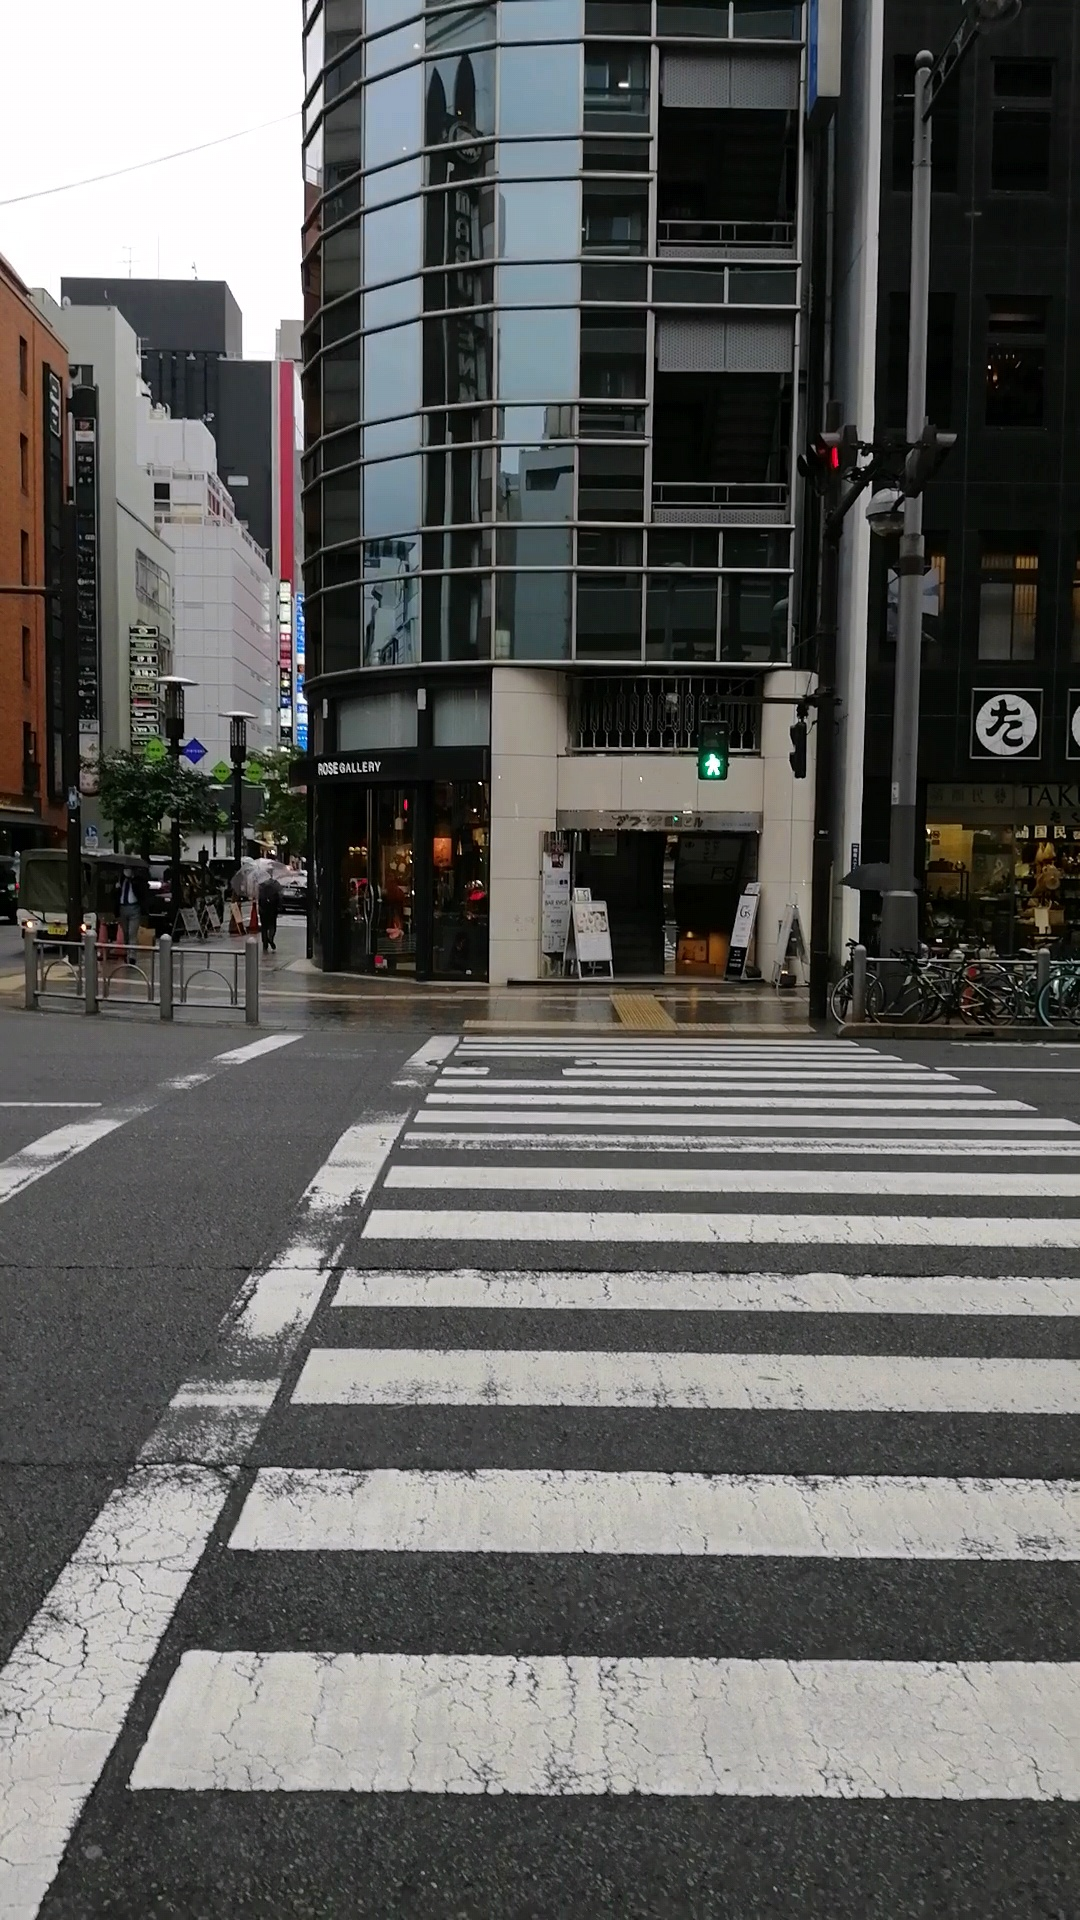green: (696, 716, 731, 783)
